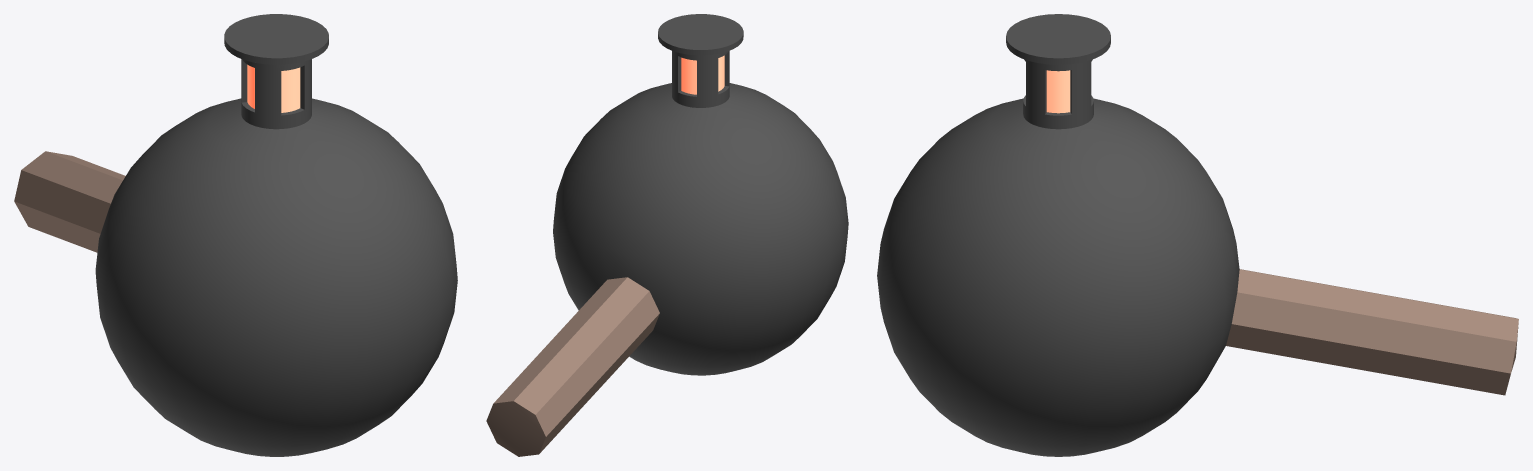
Rendered from AirBot.fbx.
3 renders of one model, left to right at view 1: azimuth 30°, elevation 25°; view 2: azimuth 150°, elevation 25°; view 3: azimuth 270°, elevation 25°, orthographic. The views are drawn at different scales.
Visible parts, largest first — view 1: AirBot, AirBot_Canon; view 2: AirBot, AirBot_Canon; view 3: AirBot, AirBot_Canon.
Part boxes in pixels (box(x1,y1,x2,y2)): AirBot: box(95, 14, 457, 456); AirBot_Canon: box(14, 151, 125, 252); AirBot: box(553, 14, 848, 375); AirBot_Canon: box(486, 277, 659, 456); AirBot: box(877, 14, 1239, 456); AirBot_Canon: box(1226, 269, 1518, 395).
Size of the model in its own units: 200 by 246 by 354.
